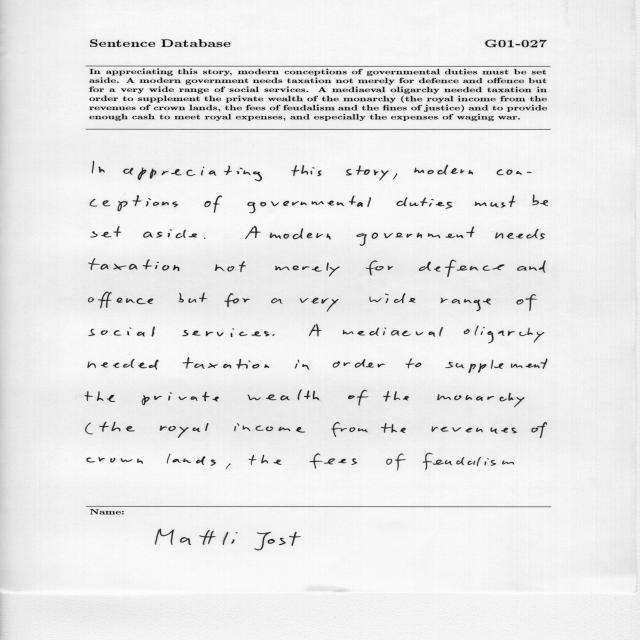word: (357, 226, 475, 246), (247, 196, 371, 214), (123, 166, 262, 181), (423, 453, 514, 470), (446, 359, 548, 374), (90, 195, 178, 212), (419, 260, 504, 277), (464, 326, 544, 344), (437, 393, 525, 408), (89, 292, 154, 309), (89, 259, 180, 271), (183, 357, 269, 369), (142, 392, 219, 405), (343, 327, 443, 337), (275, 262, 340, 277), (182, 328, 270, 337), (88, 359, 159, 370), (248, 390, 319, 401), (310, 453, 357, 469), (160, 423, 209, 438), (270, 228, 331, 240), (234, 423, 305, 433), (432, 426, 517, 434), (397, 197, 453, 209), (440, 298, 491, 311), (89, 327, 155, 337), (346, 166, 389, 181), (414, 165, 473, 175), (167, 454, 216, 466), (300, 297, 338, 312), (331, 422, 368, 437), (475, 195, 515, 208), (495, 229, 545, 239), (143, 230, 197, 239), (332, 359, 385, 368), (370, 293, 416, 303), (366, 261, 393, 276), (87, 457, 143, 464), (517, 260, 546, 273), (90, 226, 121, 238), (224, 293, 250, 307), (516, 294, 537, 311), (215, 261, 246, 272), (386, 454, 406, 471), (292, 165, 322, 176), (85, 391, 115, 402), (249, 455, 282, 465), (204, 195, 222, 213), (348, 390, 368, 406), (179, 292, 207, 303), (383, 391, 409, 402), (86, 422, 109, 434), (531, 422, 547, 438), (381, 423, 406, 433), (497, 170, 532, 176), (245, 226, 261, 239), (112, 422, 135, 431), (532, 195, 548, 206), (92, 161, 105, 173), (309, 324, 322, 336), (295, 360, 310, 370), (406, 359, 421, 369), (271, 298, 283, 304), (226, 464, 231, 469), (393, 174, 397, 180), (272, 334, 275, 336), (204, 237, 205, 239)
